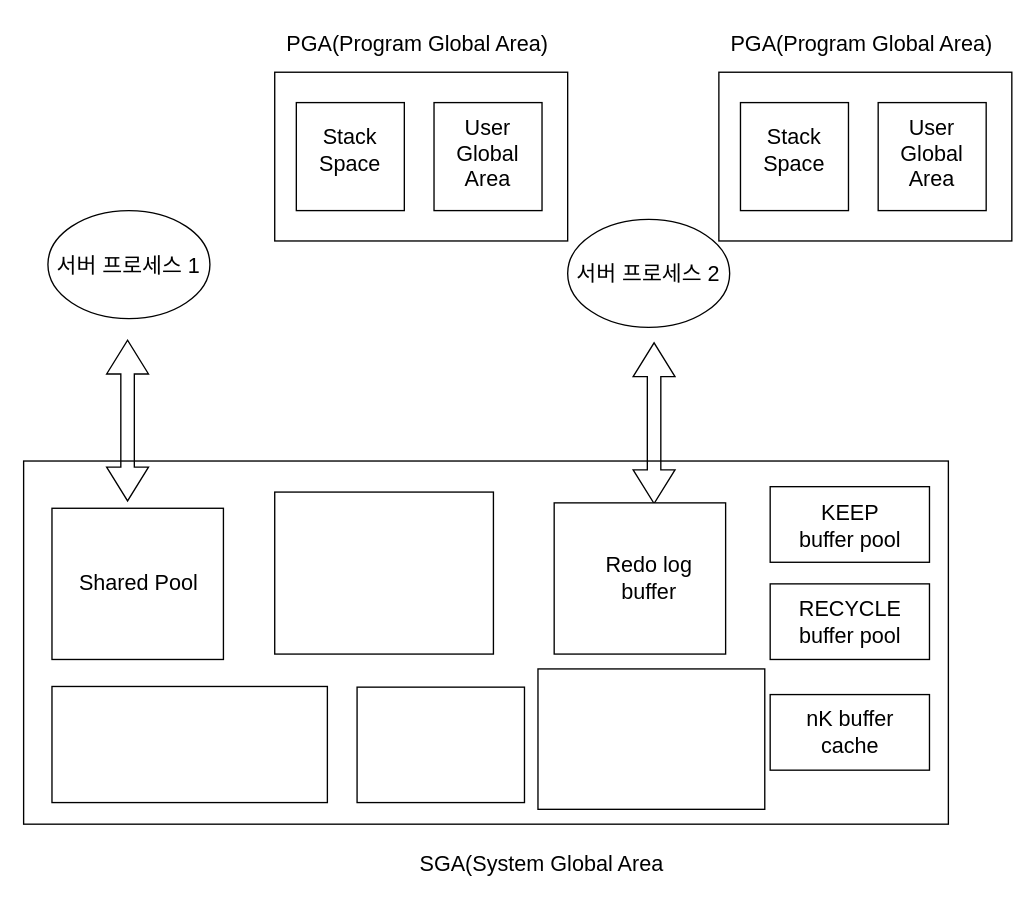
Some shapes in this 1035 by 906 pixel diagram are drawn without their labels. Each missing label, with the box of its shape:
Database buffer cache: (273, 491, 493, 654)
Java Pool: (356, 686, 524, 803)
Large Pool: (51, 685, 327, 803)
Streams Pool: (537, 668, 765, 809)
